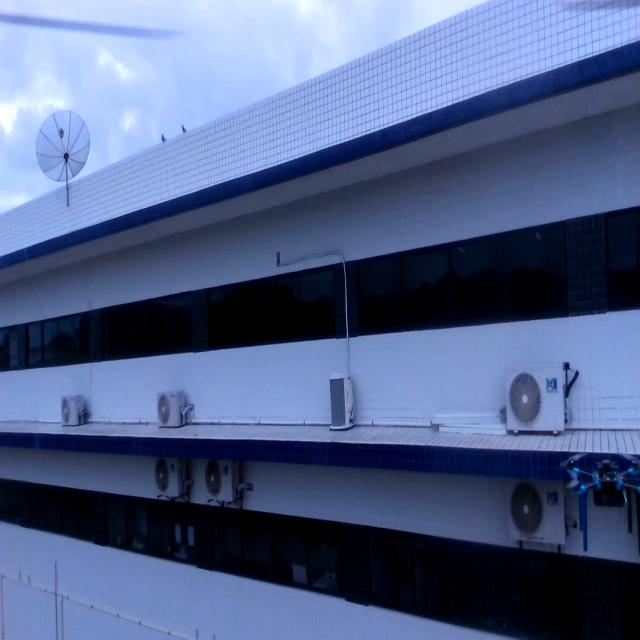-uav-: (555, 437, 640, 562)
